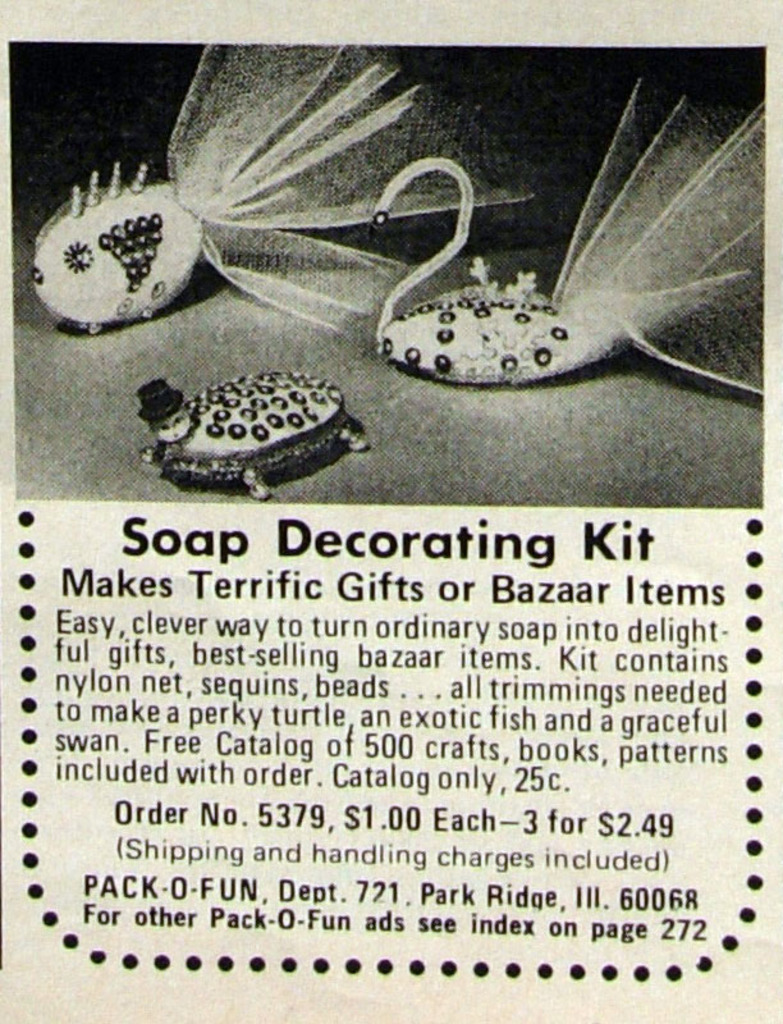Sea turtles: (139, 375, 369, 505)
